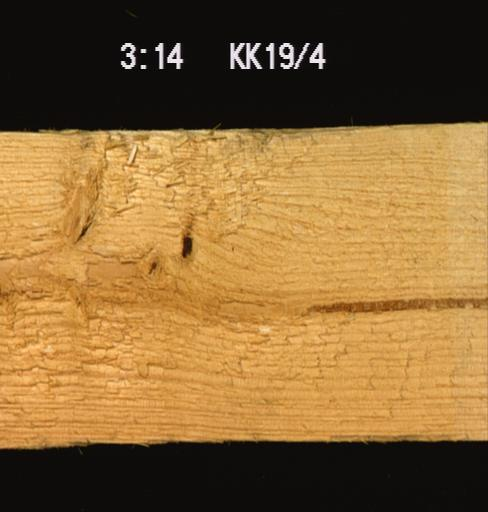small_knot: (146, 257, 158, 274)
